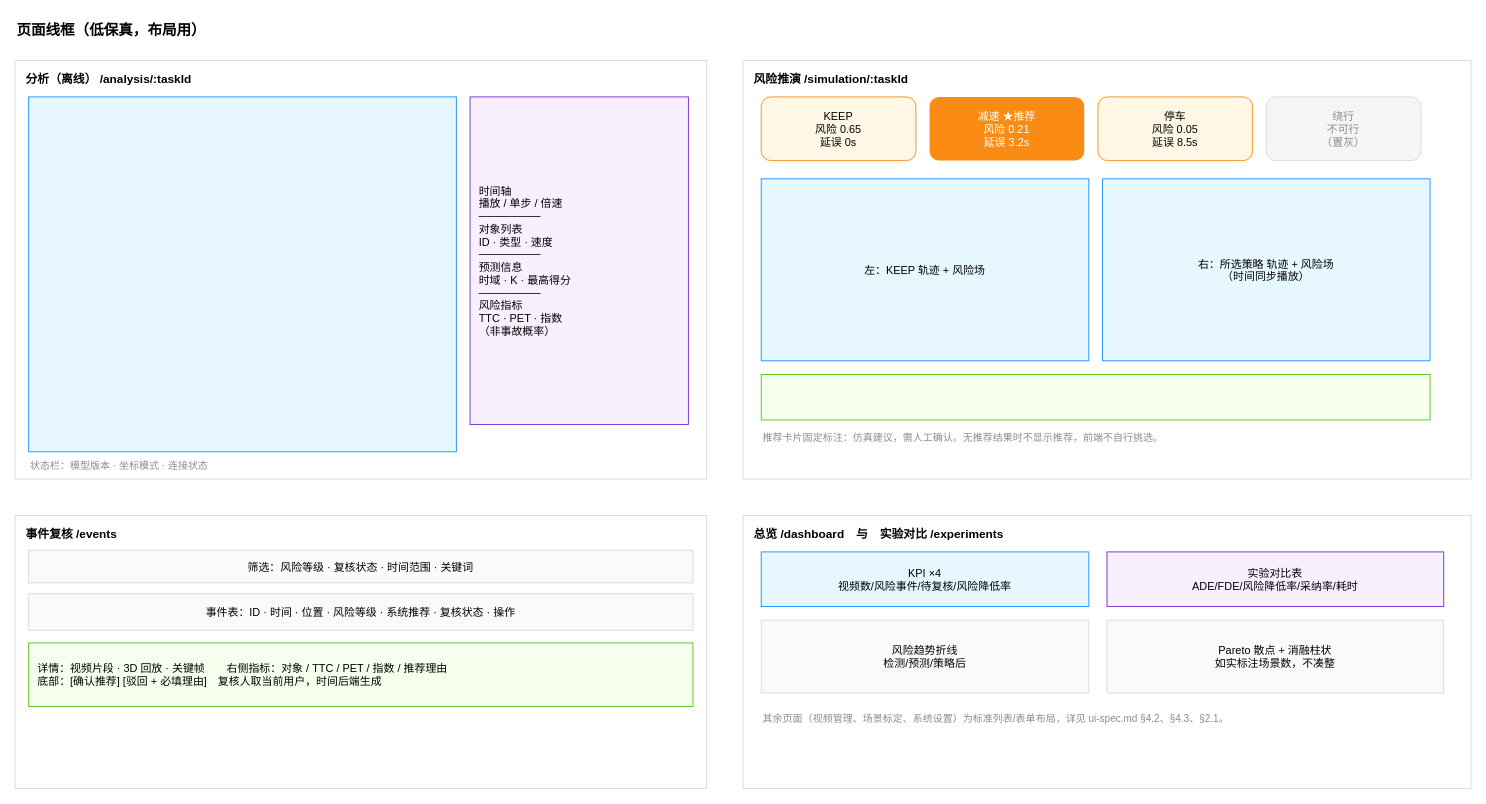
The diagram is 1486 pixels wide and 804 high, and some of its shapes have lost their labels. Each missing label, with the centre of its shape:
3D 场景（70%） 地面 / 货架 / 墙 叉车 · 行人 历史轨迹（实线） 预测分支（虚线 + 得分） 风险热力场: the point at 242,274
指标对比表：最大/平均风险 · TTC 最小 · 延误 · 能耗 [确认推荐] [选其他] [驳回并填理由]: the point at 1095,397
